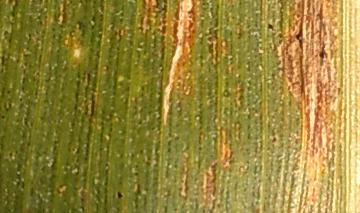tarspot: (293, 24, 305, 55), (316, 43, 330, 67), (265, 19, 277, 36), (114, 188, 125, 202)
